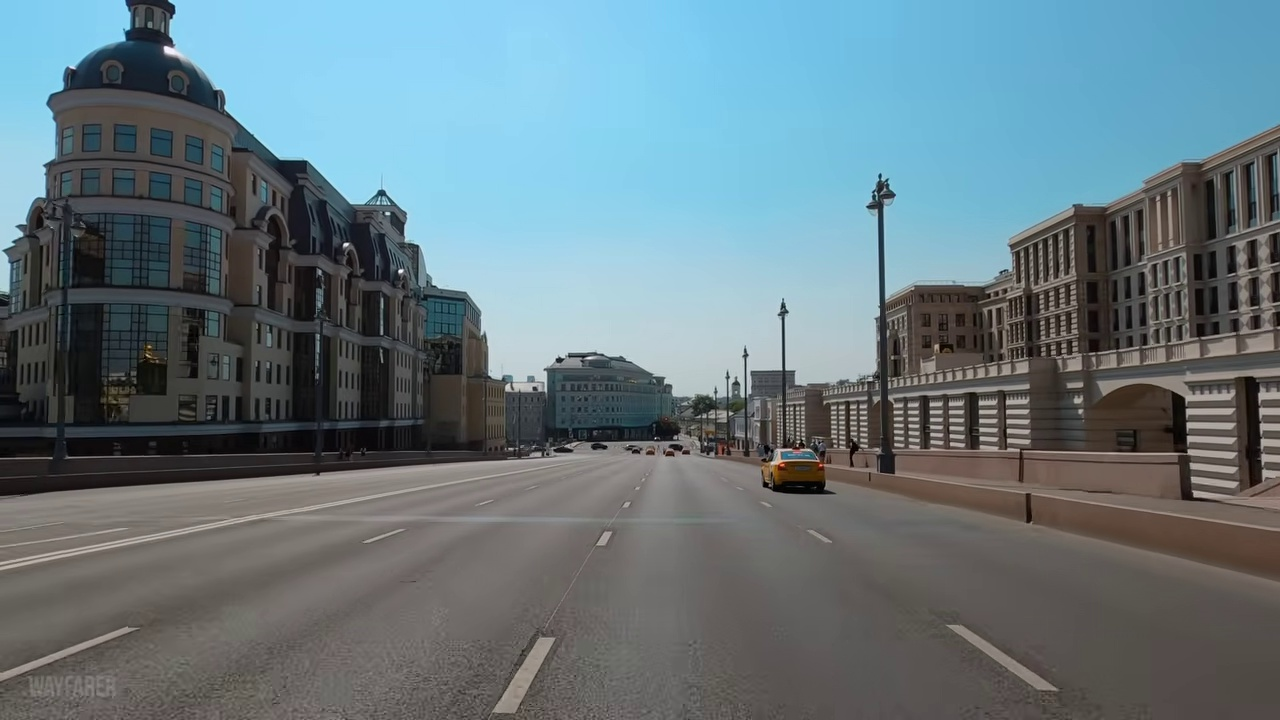apagada: (863, 178, 899, 216)
